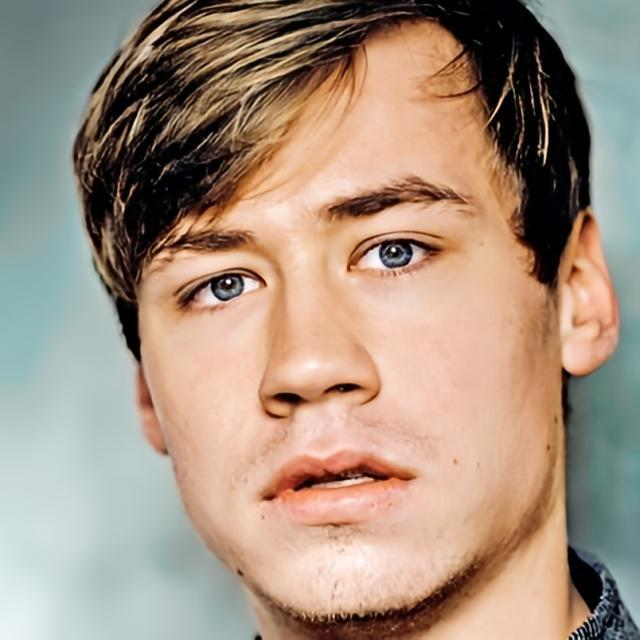fear: (140, 19, 558, 622)
